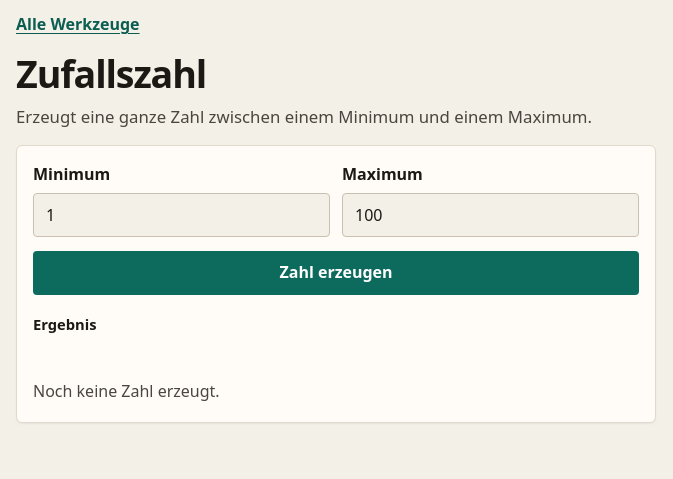
Test case: ToolPage › renders a working tool and rejects unknown ids
This screenshot has width=673, height=479.
expect the heading "Zufallszahl" is shown: met, box [16,48,206,99]
Clear the field labelled "Minimum": (182, 215) [33,193,330,237]
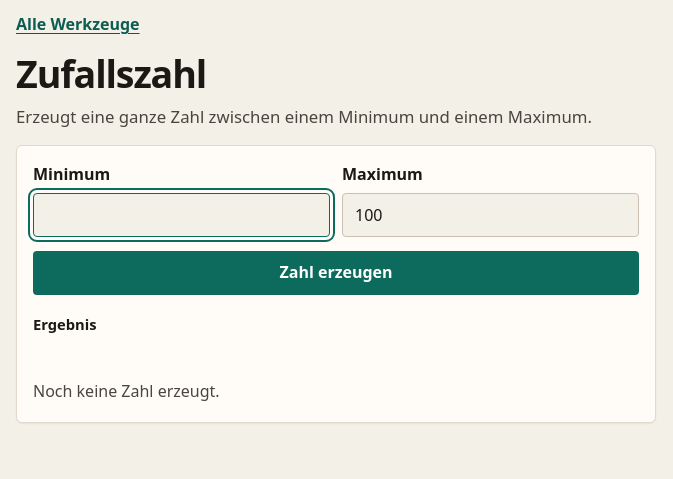
Clear the field labelled "Maximum": (490, 215) [342,193,639,237]
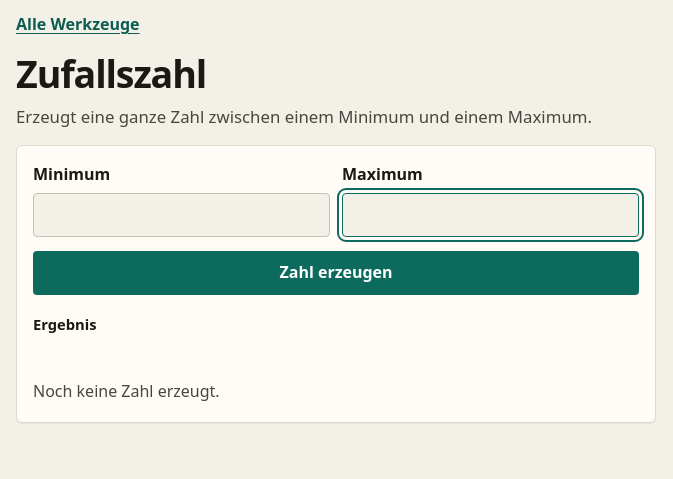
Click the button "Zahl erzeugen": (336, 273) [33,251,639,295]
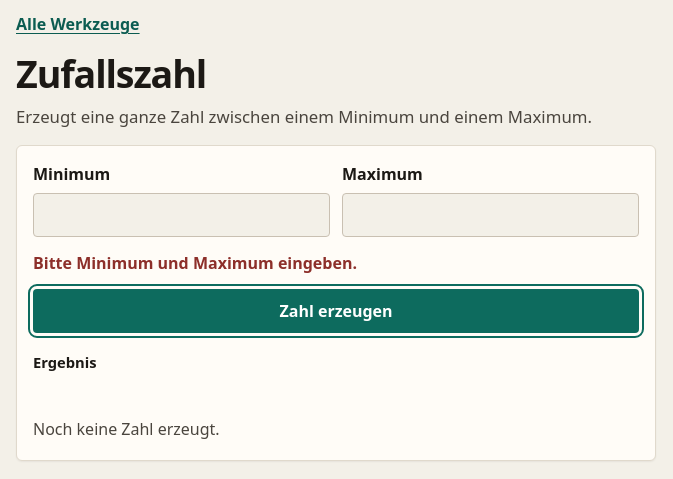
expect the message reads "Bitte Minimum und Maximum eingeben.": met, box [33,252,357,274]
In the field labelled "Minimum": (182, 215) [33,193,330,237], type "4"
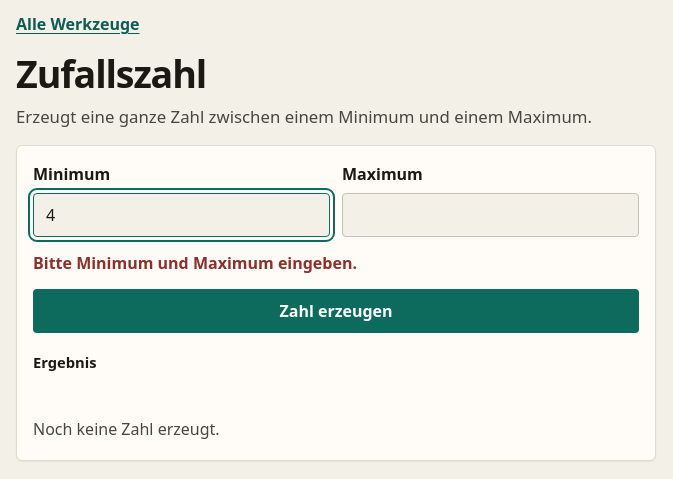
In the field labelled "Maximum": (490, 215) [342,193,639,237], type "4"
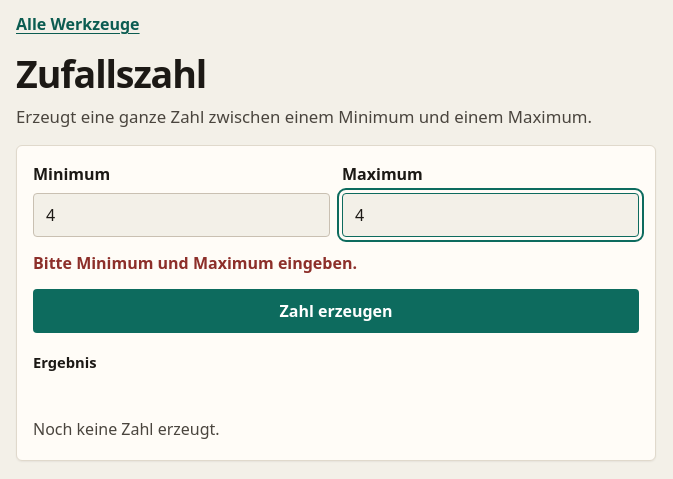
Click the button "Zahl erzeugen": (336, 311) [33,289,639,333]
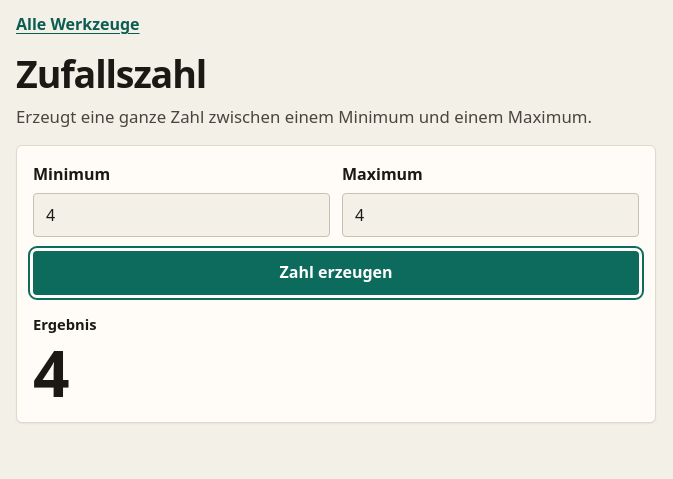
expect the text "4" is shown: met, box [32,328,304,416]
